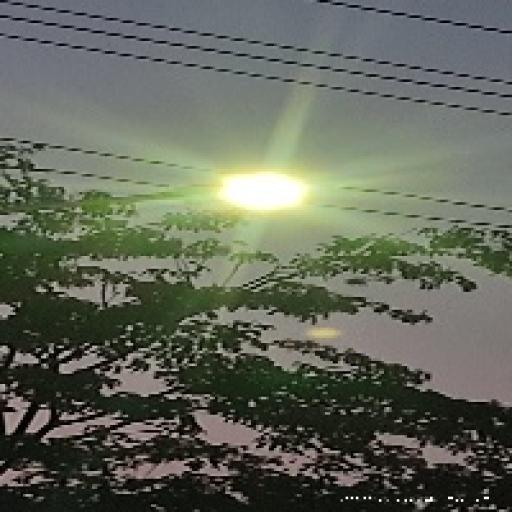Working: (152, 154, 325, 230)
